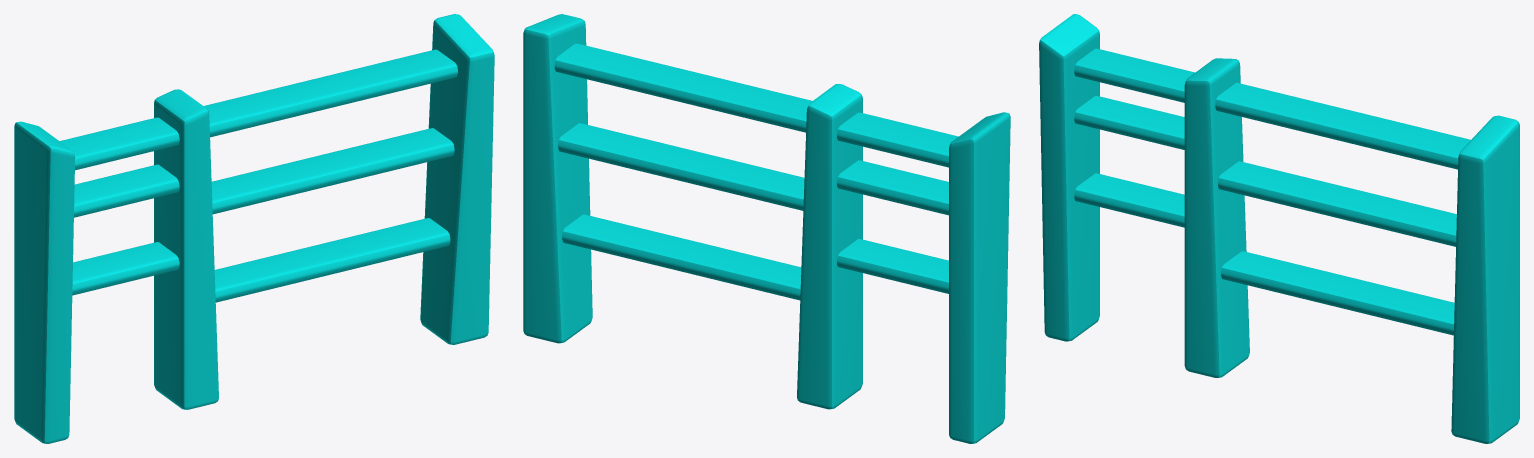
File: BookShelf_msh.fbx
3 renders of one model, left to right at view 1: azimuth 30°, elevation 25°; view 2: azimuth 150°, elevation 25°; view 3: azimuth 330°, elevation 25°, orthographic.
Parts seen in each view (by area): view 1: BookShelf; view 2: BookShelf; view 3: BookShelf.
Part boxes in pixels (<box>): BookShelf: <box>14,14,494,443</box>; BookShelf: <box>523,14,1010,443</box>; BookShelf: <box>1039,14,1519,443</box>.
Size of the model in its own units: 320 by 208 by 47.66.
